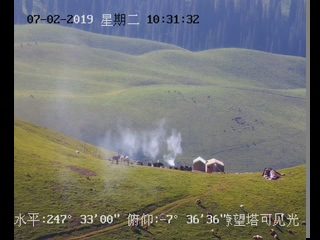smoke: (114, 120, 182, 166)
